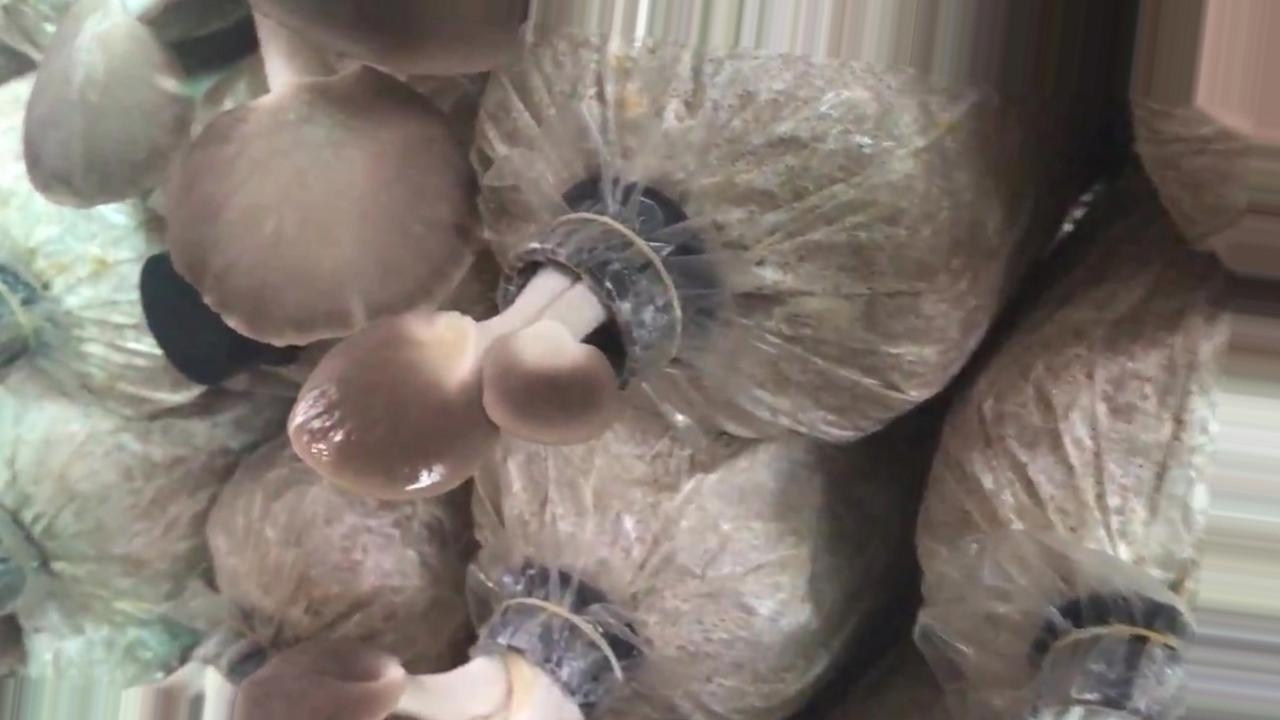nam: (22, 1, 525, 350), (282, 199, 682, 502)
